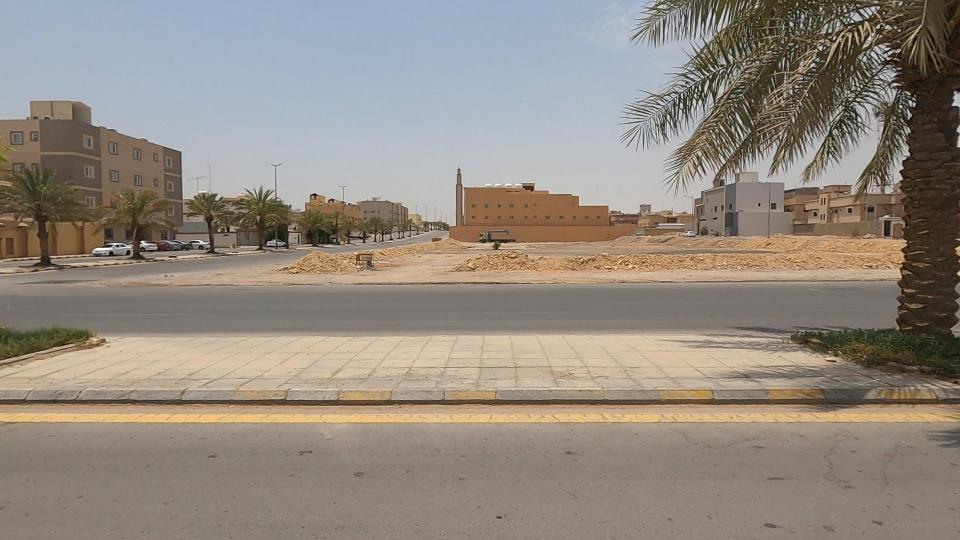SAND_ON_ROAD: (247, 236, 369, 288)
